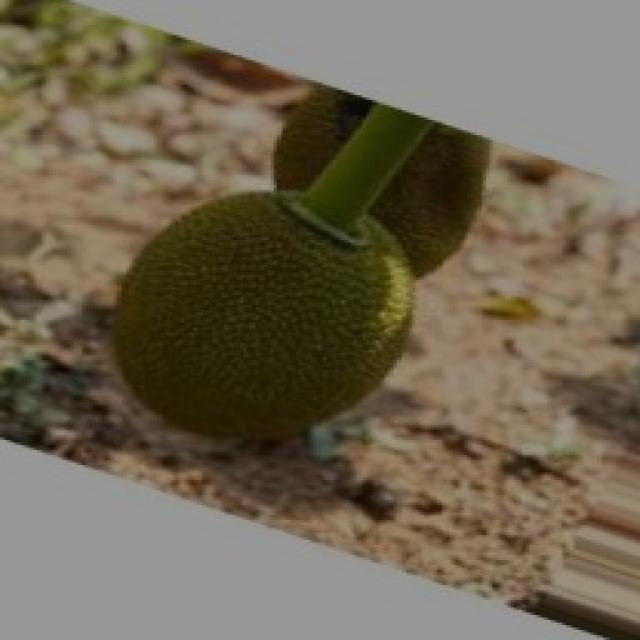Fruit: (80, 165, 440, 473)
